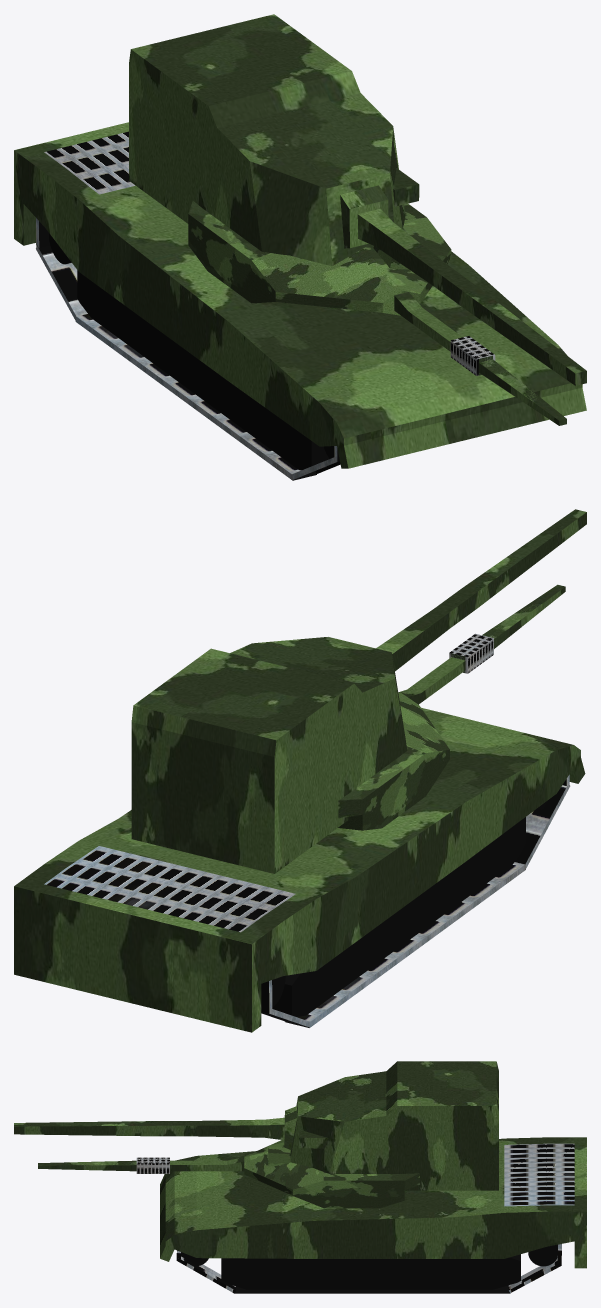
File: TANK3.fbx
The picture shows the model from 3 angles, top to bottom: view 1: azimuth 30°, elevation 25°; view 2: azimuth 150°, elevation 25°; view 3: azimuth 270°, elevation 25°; orthographic projection. The views are drawn at different scales.
Visible parts, largest first — view 1: Cube, Cube.001, Cube.002; view 2: Cube, Cube.001, Cube.002; view 3: Cube, Cube.001, Cube.002.
Part boxes in pixels (x1,y1,x2,y2): Cube: [14, 122, 586, 480]; Cube.001: [129, 14, 586, 385]; Cube.002: [188, 201, 566, 425]; Cube: [14, 707, 585, 1032]; Cube.001: [131, 509, 586, 873]; Cube.002: [338, 584, 565, 830]; Cube: [160, 1137, 586, 1293]; Cube.001: [14, 1061, 498, 1190]; Cube.002: [38, 1140, 419, 1208].
Bounding box in the file's own units: 378 × 409 × 1231.
3 materials, 2 textured.
